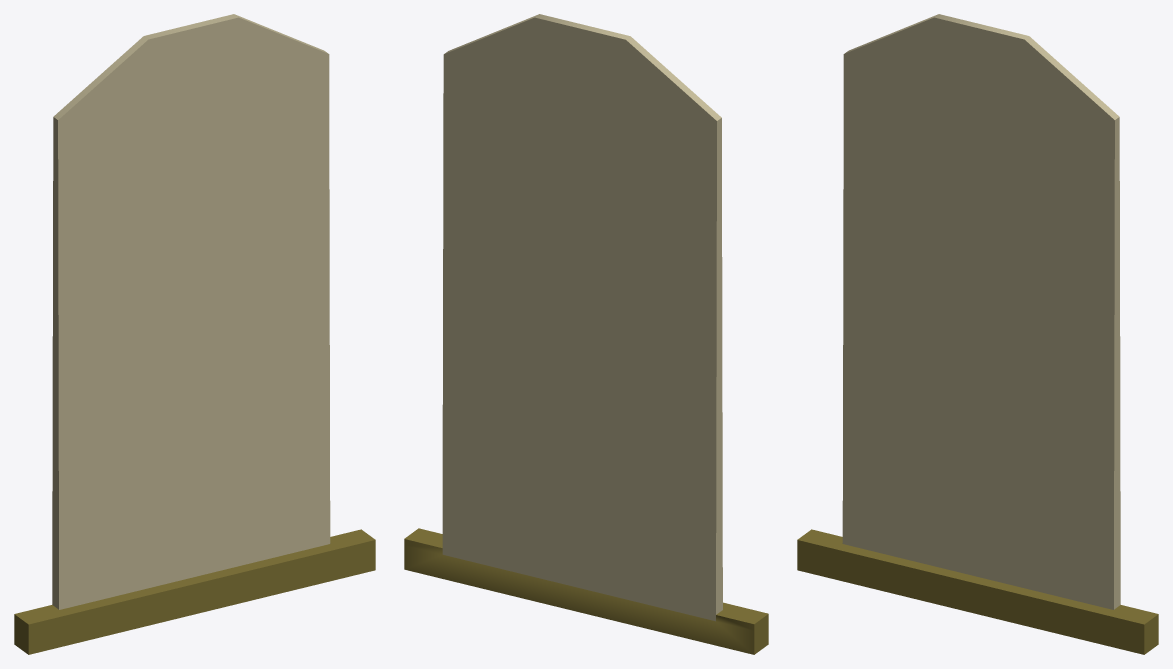
Rendered from Proto_Cutout_01.fbx.
3 renders of one model, left to right at view 1: azimuth 30°, elevation 25°; view 2: azimuth 150°, elevation 25°; view 3: azimuth 330°, elevation 25°, orthographic.
Visible parts, largest first — view 1: Cardboard, Base; view 2: Cardboard, Base; view 3: Cardboard, Base.
Part boxes in pixels (x1,y1,x2,y2): Cardboard: (52, 14, 330, 609); Base: (14, 529, 375, 654); Cardboard: (442, 14, 722, 621); Base: (404, 528, 768, 654); Cardboard: (842, 14, 1120, 609); Base: (797, 529, 1158, 654).
Bounding box in the file's own units: 18.3 × 29.12 × 1.31.
